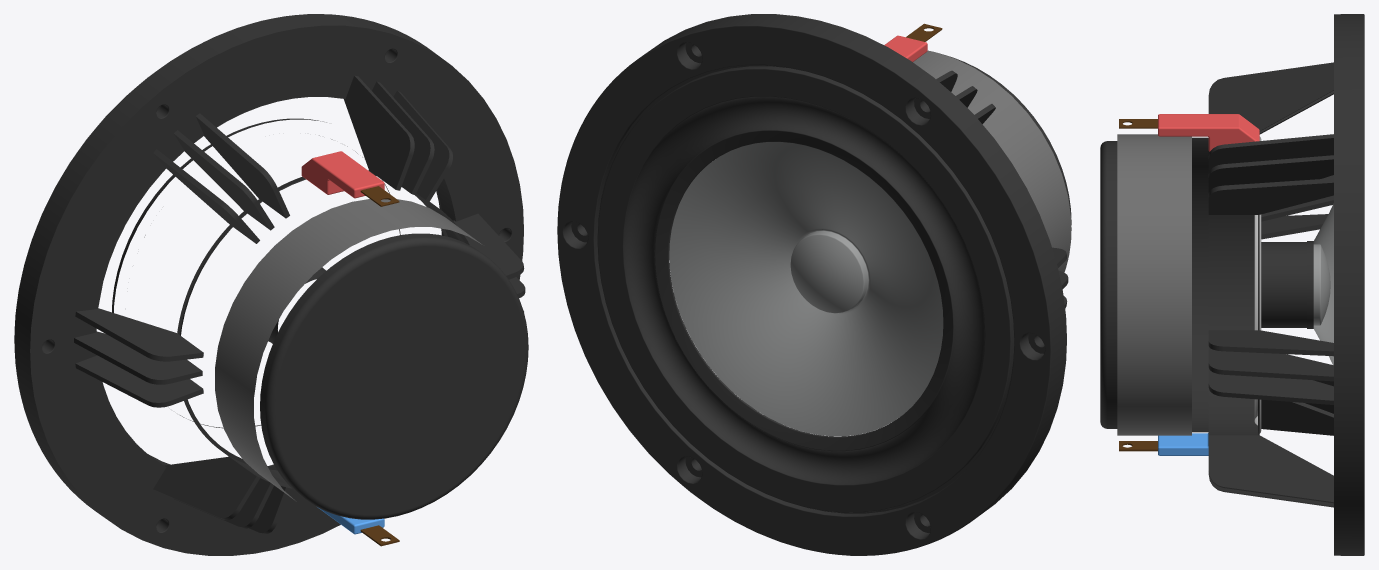
File: speaker.glb
3 renders of one model, left to right at view 1: azimuth 30°, elevation 25°; view 2: azimuth 150°, elevation 25°; view 3: azimuth 270°, elevation 25°, orthographic. The views are drawn at different scales.
Visible parts, largest first — view 1: markaudio_alpair_10m_2, markaudio_alpair_10m_4, markaudio_alpair_10m_7, markaudio_alpair_10m_6; view 2: markaudio_alpair_10m_2, markaudio_alpair_10m_1, markaudio_alpair_10m_3, markaudio_alpair_10m_4, markaudio_alpair_10m_7; view 3: markaudio_alpair_10m_2, markaudio_alpair_10m_4, markaudio_alpair_10m_7, markaudio_alpair_10m_1, markaudio_alpair_10m_8, markaudio_alpair_10m_5, markaudio_alpair_10m_6.
Boxes of the visible parts, left/top/right/bottom form: markaudio_alpair_10m_2: left=14, top=14, right=528, bottom=555; markaudio_alpair_10m_4: left=215, top=199, right=482, bottom=501; markaudio_alpair_10m_7: left=301, top=151, right=384, bottom=198; markaudio_alpair_10m_6: left=360, top=186, right=399, bottom=546; markaudio_alpair_10m_2: left=557, top=14, right=1071, bottom=555; markaudio_alpair_10m_1: left=669, top=142, right=943, bottom=436; markaudio_alpair_10m_3: left=557, top=26, right=1050, bottom=555; markaudio_alpair_10m_4: left=913, top=50, right=1071, bottom=272; markaudio_alpair_10m_7: left=884, top=35, right=927, bottom=61; markaudio_alpair_10m_2: left=1100, top=14, right=1364, bottom=555; markaudio_alpair_10m_4: left=1117, top=134, right=1191, bottom=435; markaudio_alpair_10m_7: left=1158, top=114, right=1259, bottom=151; markaudio_alpair_10m_1: left=1313, top=203, right=1333, bottom=365; markaudio_alpair_10m_8: left=1158, top=433, right=1208, bottom=455; markaudio_alpair_10m_5: left=1254, top=136, right=1261, bottom=433; markaudio_alpair_10m_6: left=1119, top=119, right=1157, bottom=451.
Size of the model in its own units: 2.02 by 2.02 by 0.9843.
